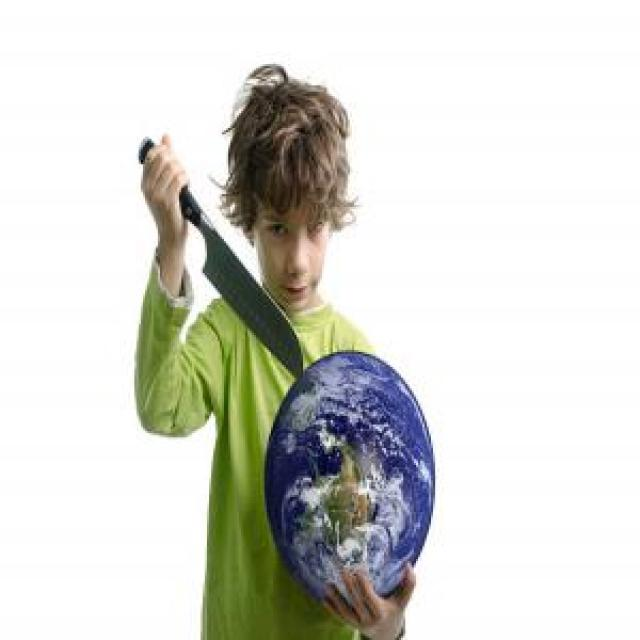knife: (102, 134, 308, 381)
